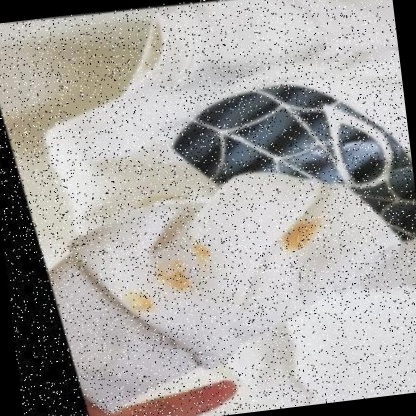kimchi: (277, 219, 325, 254), (127, 281, 165, 320), (161, 261, 199, 295), (195, 242, 210, 259)
